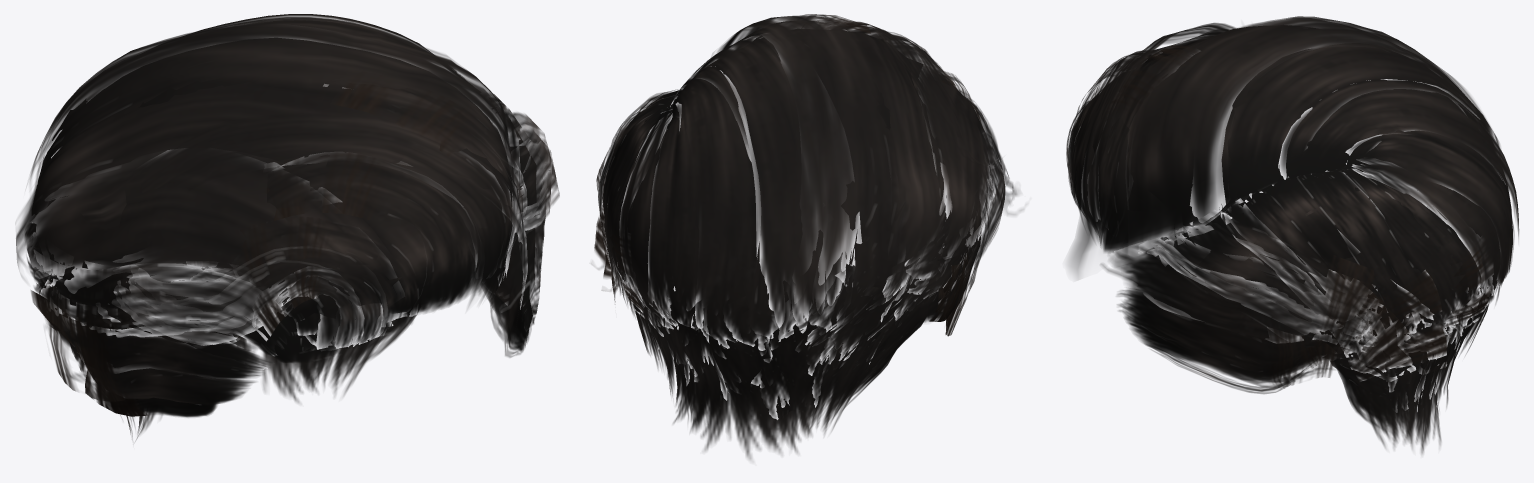
File: Triangle_Wavy_MediumLengthWaves.glb
3 views of the same model, side by side, from view 1: azimuth 30°, elevation 25°; view 2: azimuth 150°, elevation 25°; view 3: azimuth 270°, elevation 25° (orthographic). The views are drawn at different scales.
Visible parts, largest first — view 1: NEW MEDIUM-LENGTH WAVES; view 2: NEW MEDIUM-LENGTH WAVES; view 3: NEW MEDIUM-LENGTH WAVES.
Part boxes in pixels (<box>): NEW MEDIUM-LENGTH WAVES: <box>16,14,559,441</box>; NEW MEDIUM-LENGTH WAVES: <box>591,14,1023,459</box>; NEW MEDIUM-LENGTH WAVES: <box>1066,16,1519,454</box>.
Bounding box in the file's own units: 0.2554 × 0.2332 × 0.2397.
1 material, 1 textured.
